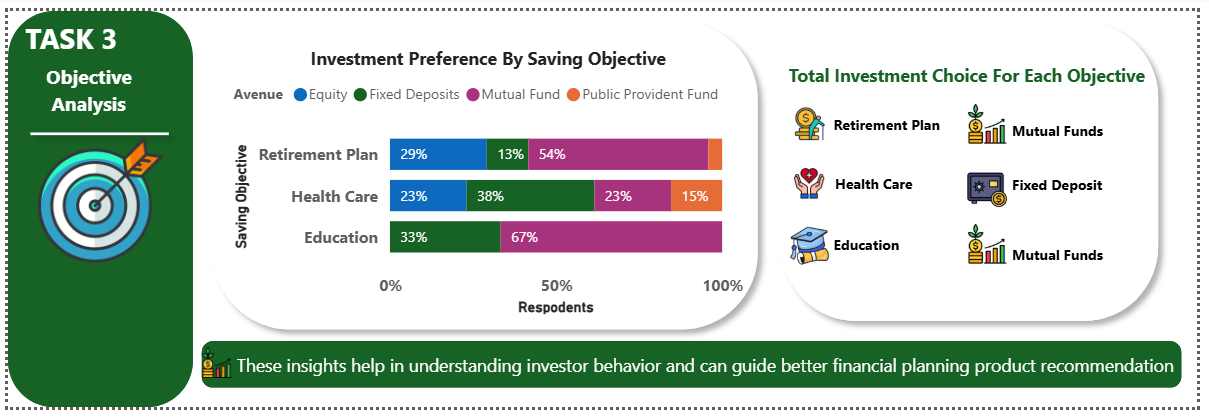

The dashboard page shown, as its layout file describes it:
{"tool":"powerbi","page":{"name":"Task 3","canvas":[900,300],"ordinal":2},"visuals":[{"type":"shape","box":[0,0,140,300],"z":0},{"type":"textbox","box":[8.2,0,122.7,52.7],"z":1000},{"type":"textbox","box":[23.6,33.6,198.2,59.1],"z":2000},{"type":"shape","box":[8.2,14.5,122.7,156.4],"z":3000},{"type":"image","box":[22.7,92.7,94.5,100],"z":4000},{"type":"shape","box":[146.4,0,430,250],"z":5000},{"type":"hundredPercentStackedBarChart","title":"Investment Preference By Saving Objective","fields":{"Category":["Data_set 2.What are your savings objectives?"],"Series":["Data_set 2.Avenue"],"Y":["Data_set 2.Total Respondents"]},"box":[165.5,26.4,395.5,208.2],"z":6000},{"type":"shape","box":[576.4,0,302.7,243.6],"z":7000},{"type":"textbox","box":[586.4,33.6,319.1,37.3],"z":8000},{"type":"image","box":[586.4,70.9,41.8,30],"z":9000},{"type":"image","box":[584.5,118.2,43.6,24.5],"z":10000},{"type":"image","box":[584.5,161.8,43.6,30.9],"z":11000},{"type":"textbox","box":[620,70.9,113.6,31.8],"z":12000},{"type":"textbox","box":[620.9,114.5,113.6,31.8],"z":13000},{"type":"textbox","box":[620,160.9,113.6,31.8],"z":14000},{"type":"image","box":[713.6,70.9,54.5,30],"z":15000},{"type":"image","box":[713.6,160.9,54.5,30],"z":16000},{"type":"image","box":[690.9,120,99.1,30],"z":17000},{"type":"textbox","box":[755.5,75.5,201.8,33.6],"z":18000},{"type":"textbox","box":[755.5,161.8,201.8,33.6],"z":19000},{"type":"textbox","box":[755.5,116.4,201.8,33.6],"z":20000},{"type":"shape","box":[146.4,250,741.8,35.5],"z":21000},{"type":"image","box":[146.4,250,23.6,32.7],"z":22000},{"type":"textbox","box":[168.2,252.7,720,30],"z":23000}]}

Visuals, with their boxes on the page's 900x300 design canvas (x1, y1, x2, y2). These are canvas units, not pixel positions in the 1209x418 screenshot, which may show the page scaled, cropped or inside an application window:
shape: bbox=(0, 0, 140, 300)
textbox: bbox=(8, 0, 131, 53)
textbox: bbox=(24, 34, 222, 93)
shape: bbox=(8, 14, 131, 171)
image: bbox=(23, 93, 117, 193)
shape: bbox=(146, 0, 576, 250)
"Investment Preference By Saving Objective" hundredPercentStackedBarChart: bbox=(166, 26, 561, 235)
shape: bbox=(576, 0, 879, 244)
textbox: bbox=(586, 34, 906, 71)
image: bbox=(586, 71, 628, 101)
image: bbox=(584, 118, 628, 143)
image: bbox=(584, 162, 628, 193)
textbox: bbox=(620, 71, 734, 103)
textbox: bbox=(621, 114, 734, 146)
textbox: bbox=(620, 161, 734, 193)
image: bbox=(714, 71, 768, 101)
image: bbox=(714, 161, 768, 191)
image: bbox=(691, 120, 790, 150)
textbox: bbox=(756, 76, 957, 109)
textbox: bbox=(756, 162, 957, 195)
textbox: bbox=(756, 116, 957, 150)
shape: bbox=(146, 250, 888, 286)
image: bbox=(146, 250, 170, 283)
textbox: bbox=(168, 253, 888, 283)
